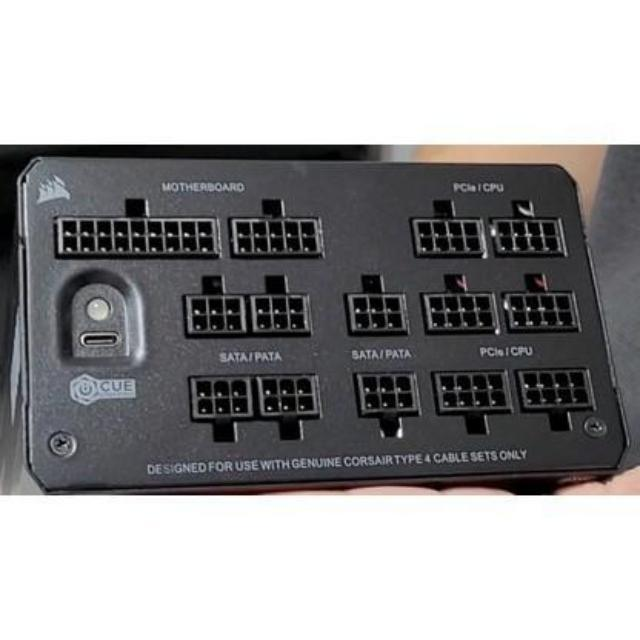PSU: (14, 151, 634, 500)
